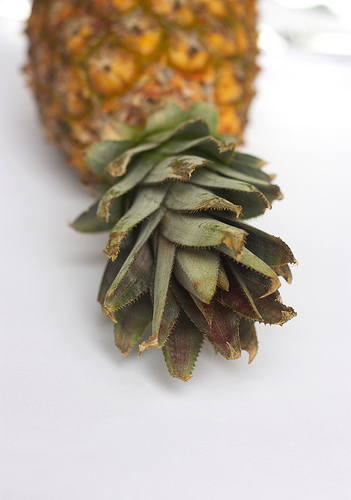pineapple: (15, 0, 297, 380)
